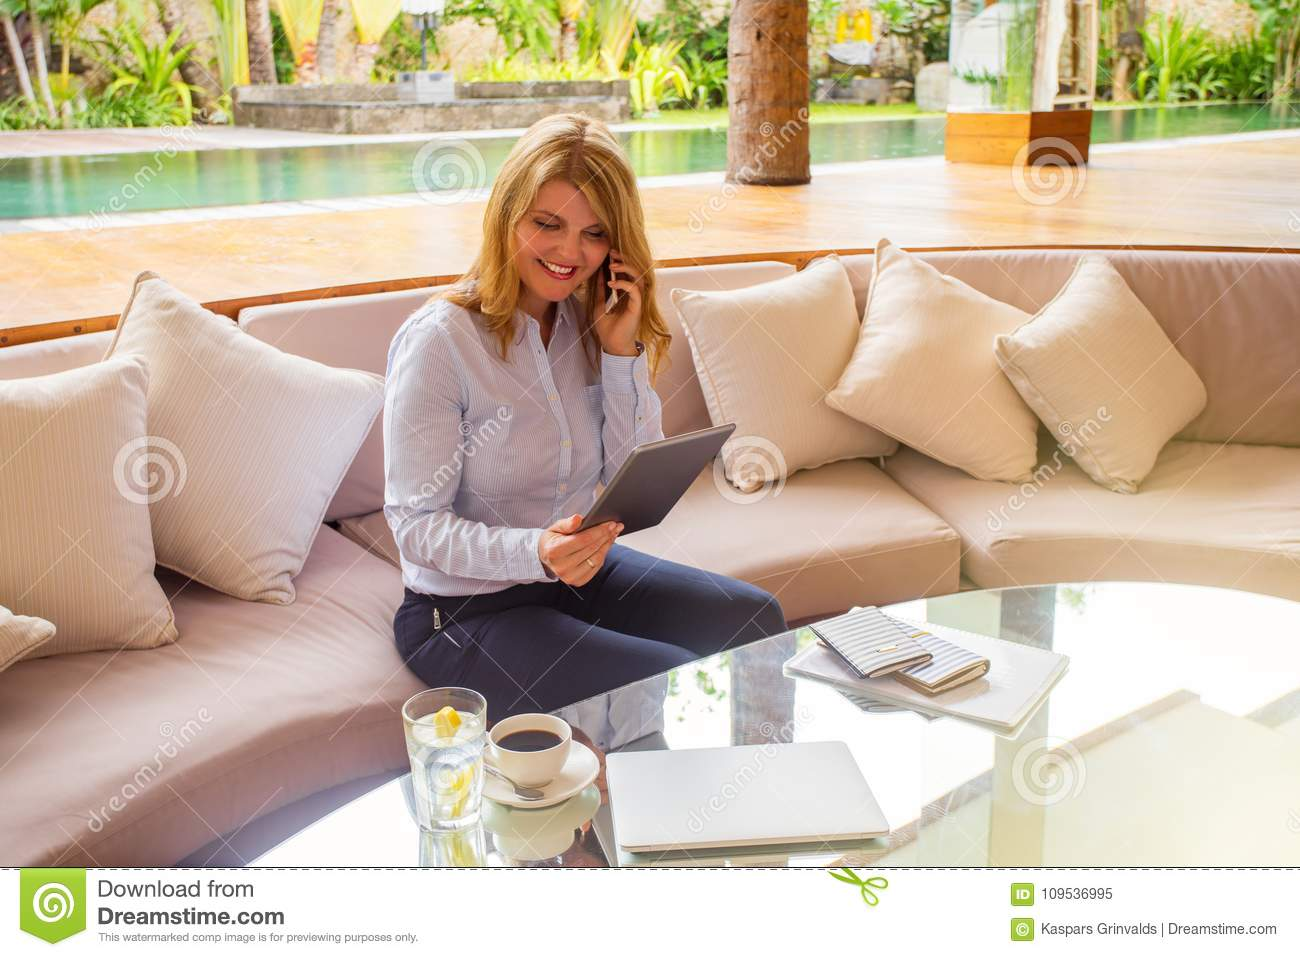phone: (605, 247, 619, 316)
talk: (520, 203, 644, 359)
